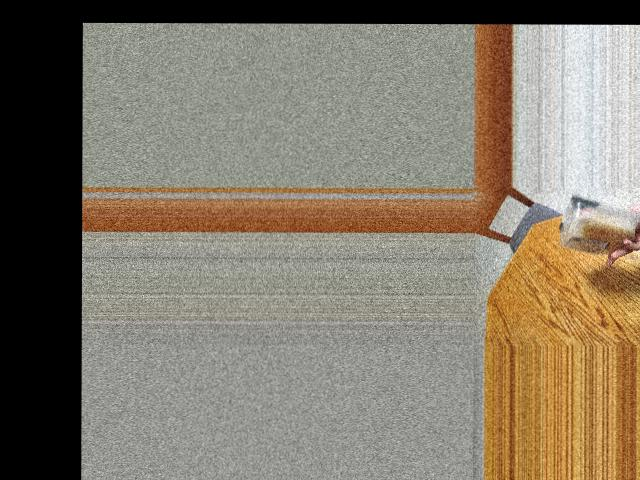cheese: (556, 196, 638, 258)
